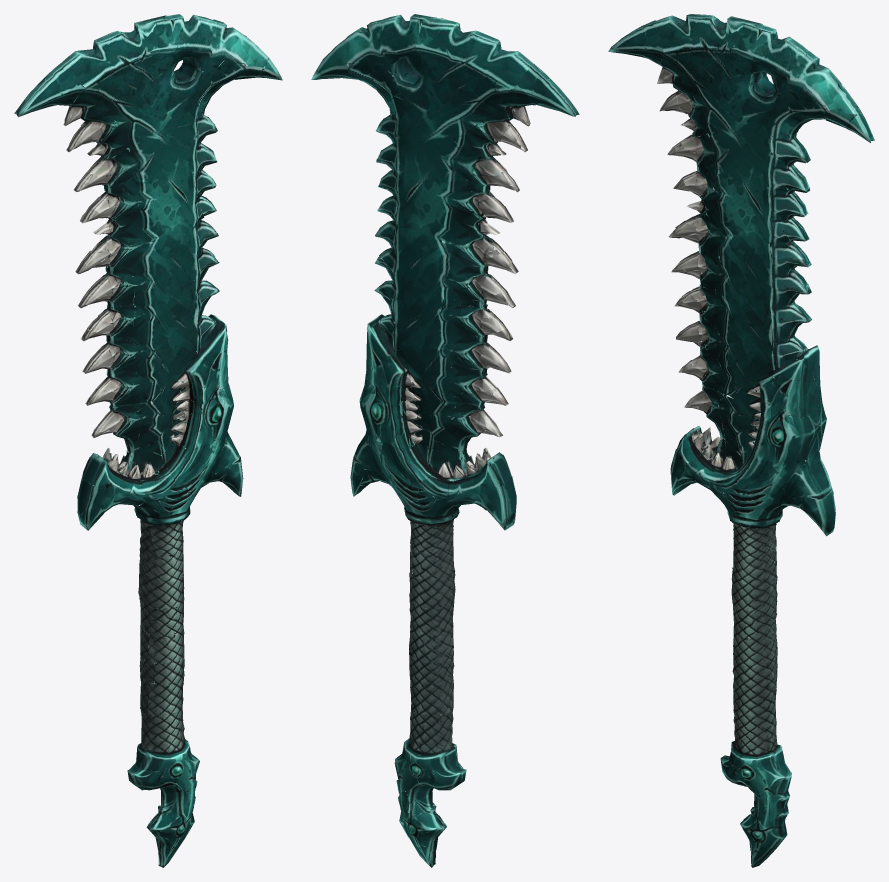
The model's file is arma_cutelo_abissal.glb.
The picture shows the model from 3 angles, left to right: view 1: azimuth 30°, elevation 25°; view 2: azimuth 150°, elevation 25°; view 3: azimuth 330°, elevation 25°; orthographic projection.
Parts seen in each view (by area): view 1: Mesh_0; view 2: Mesh_0; view 3: Mesh_0.
Boxes of the visible parts, <box> form: Mesh_0: <box>14,14,282,867</box>; Mesh_0: <box>311,14,579,867</box>; Mesh_0: <box>608,14,874,867</box>.
Size of the model in its own units: 0.3426 by 1.05 by 0.0801.
1 material, 1 textured.
